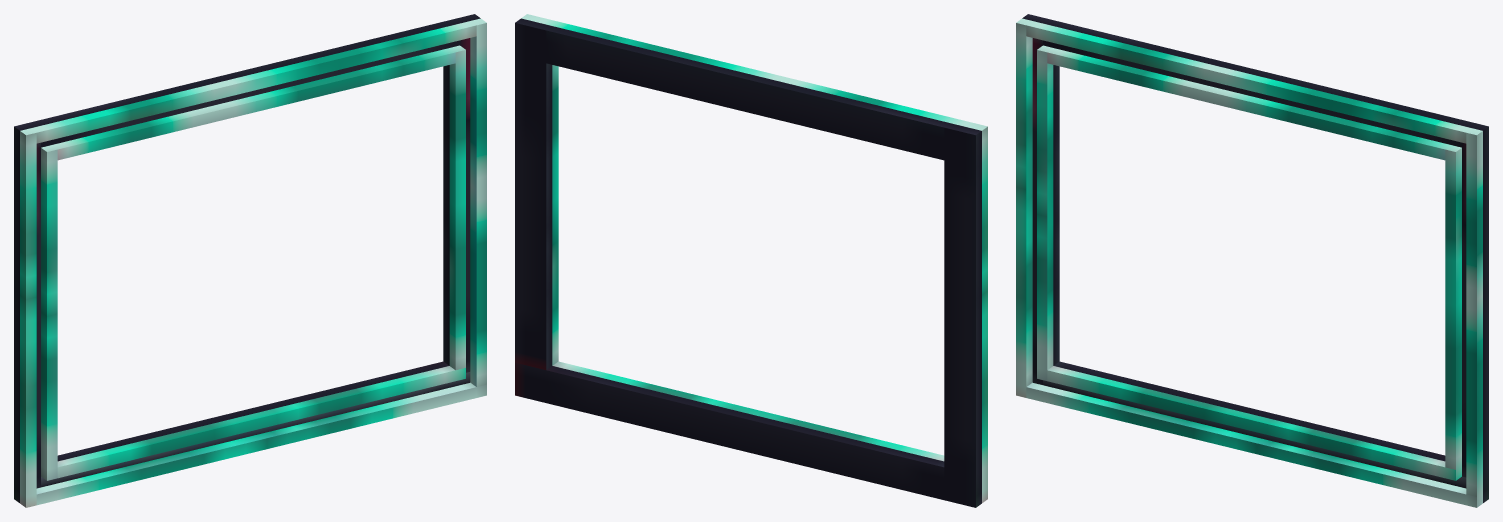
File: BillboardModule_NeonFrame_B_00.fbx
3 views of the same model, side by side, from view 1: azimuth 30°, elevation 25°; view 2: azimuth 150°, elevation 25°; view 3: azimuth 330°, elevation 25° (orthographic).
Parts seen in each view (by area): view 1: BillboardModule_NeonFrame_B_00; view 2: BillboardModule_NeonFrame_B_00; view 3: BillboardModule_NeonFrame_B_00.
Part boxes in pixels (<box>): BillboardModule_NeonFrame_B_00: <box>14,14,486,507</box>; BillboardModule_NeonFrame_B_00: <box>515,14,987,507</box>; BillboardModule_NeonFrame_B_00: <box>1016,14,1488,507</box>.
Size of the model in its own units: 220 by 170 by 10.
